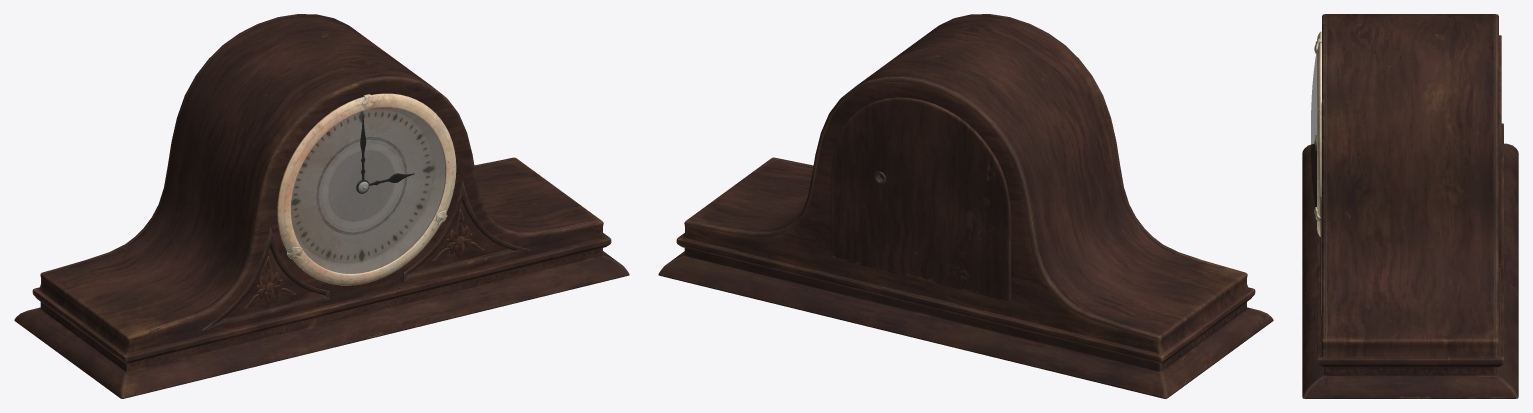
File: mantel_clock_01.glb
3 renders of one model, left to right at view 1: azimuth 30°, elevation 25°; view 2: azimuth 150°, elevation 25°; view 3: azimuth 270°, elevation 25°, orthographic.
Visible parts, largest first — view 1: mantel_clock_01, mantel_clock_01_glass; view 2: mantel_clock_01; view 3: mantel_clock_01, mantel_clock_01_glass.
Boxes of the visible parts, x1,y1,x2,y2 form: mantel_clock_01: [14, 14, 629, 398]; mantel_clock_01_glass: [291, 107, 445, 273]; mantel_clock_01: [658, 14, 1273, 398]; mantel_clock_01: [1302, 14, 1518, 398]; mantel_clock_01_glass: [1311, 53, 1316, 207].
Bounding box in the file's own units: 0.3423 × 0.1605 × 0.1262.
Materials: 2 (2 with a texture image).
